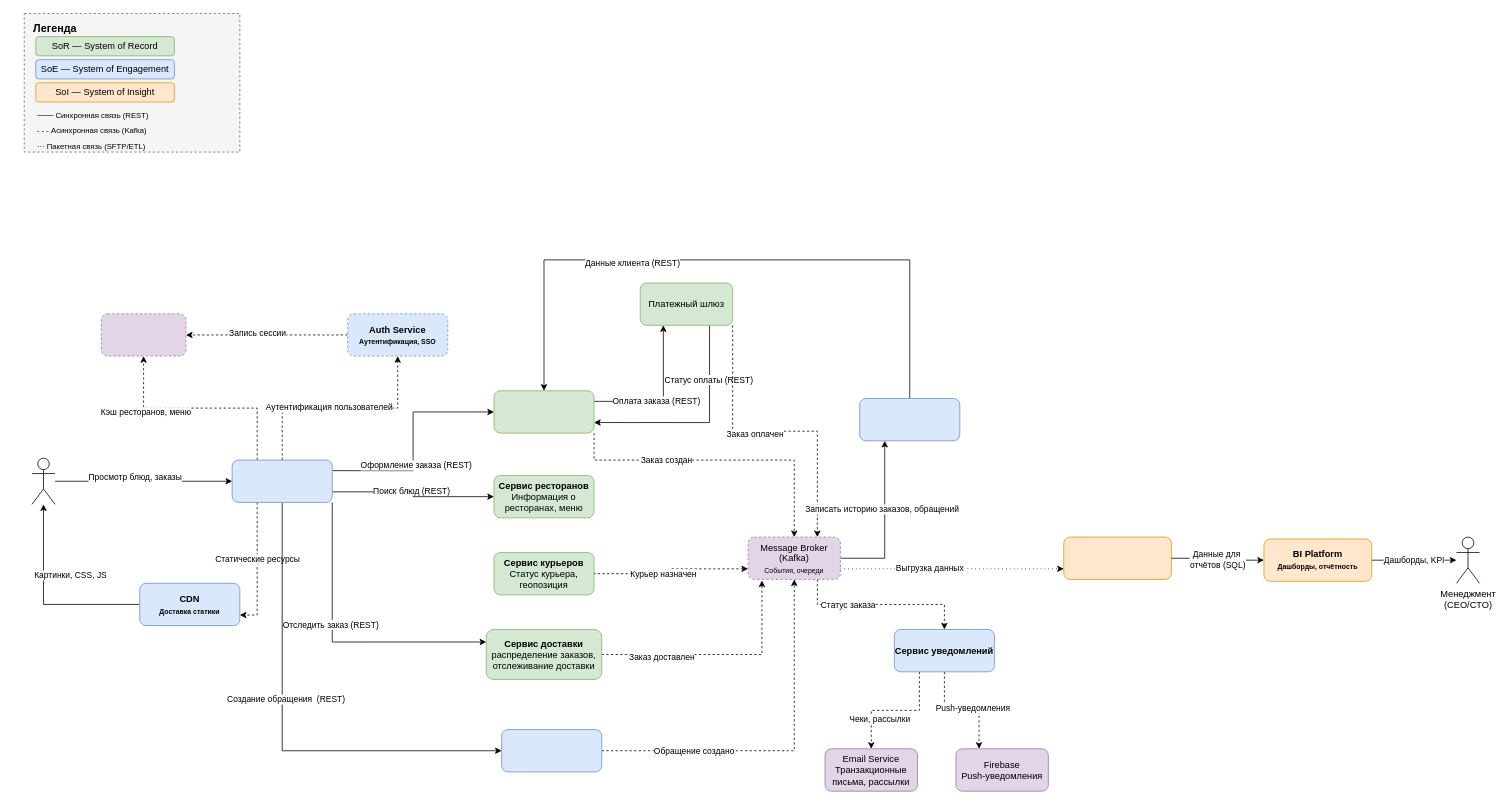
This 1509x805 diagram has some shape labels left out. Here are the shapes that lost their labels. From the top down, the box of each, then its label:
(100, 313, 186, 356): Кэш (Redis)
(493, 390, 594, 433): Сервис заказов Оформление заказа
(859, 398, 960, 441): CRM
(31, 457, 55, 504): Пользователь (Клиент)
(231, 459, 332, 502): Витрина CMS
(1063, 536, 1172, 579): DWH Хранилище данных
(501, 729, 602, 772): HelpDesk Обращения клиентов
